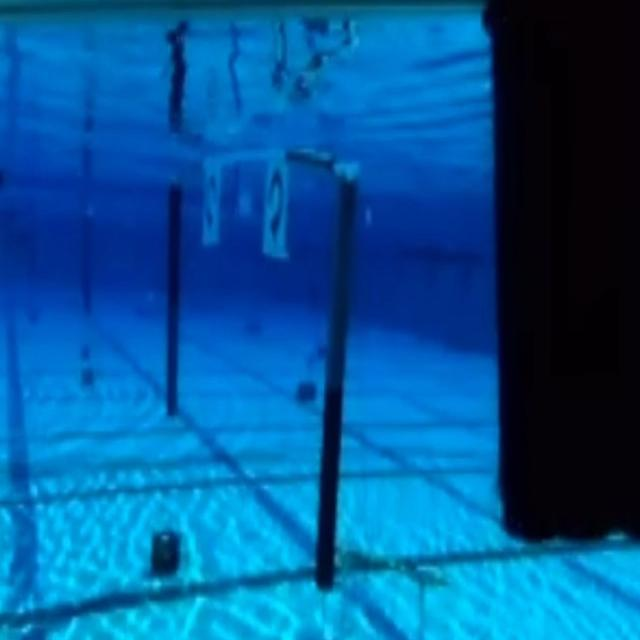Gate: (163, 139, 369, 606)
